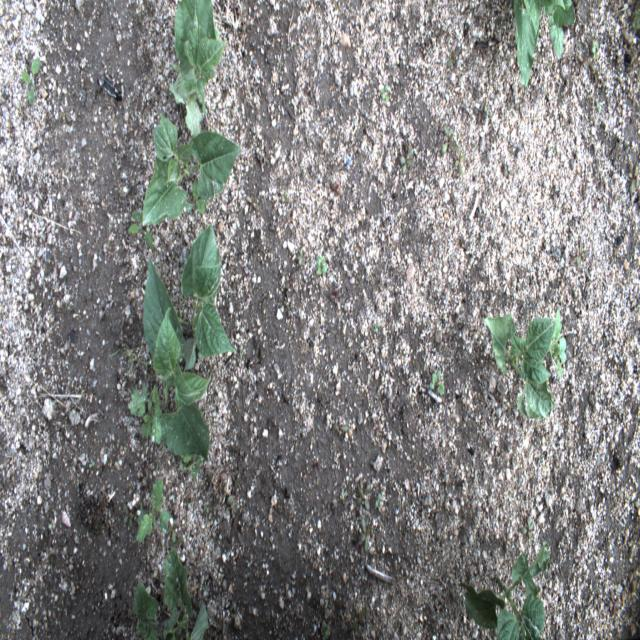crop: (142, 255, 213, 464), (143, 101, 244, 224), (459, 540, 550, 640), (484, 310, 564, 421), (180, 222, 235, 353), (133, 550, 210, 637), (508, 0, 577, 89), (169, 3, 228, 107), (135, 476, 171, 543)
weed: (126, 376, 166, 444), (129, 207, 158, 252), (19, 55, 42, 106), (442, 122, 466, 168), (354, 516, 370, 550), (355, 483, 374, 510), (431, 368, 446, 396), (519, 514, 535, 537), (470, 104, 489, 121), (630, 7, 640, 36), (628, 170, 639, 196), (316, 254, 328, 276), (402, 148, 413, 168), (590, 38, 599, 62), (123, 503, 132, 526), (320, 620, 330, 639), (297, 247, 304, 267), (333, 424, 351, 431), (381, 86, 388, 103), (375, 320, 381, 334), (595, 100, 601, 114)
